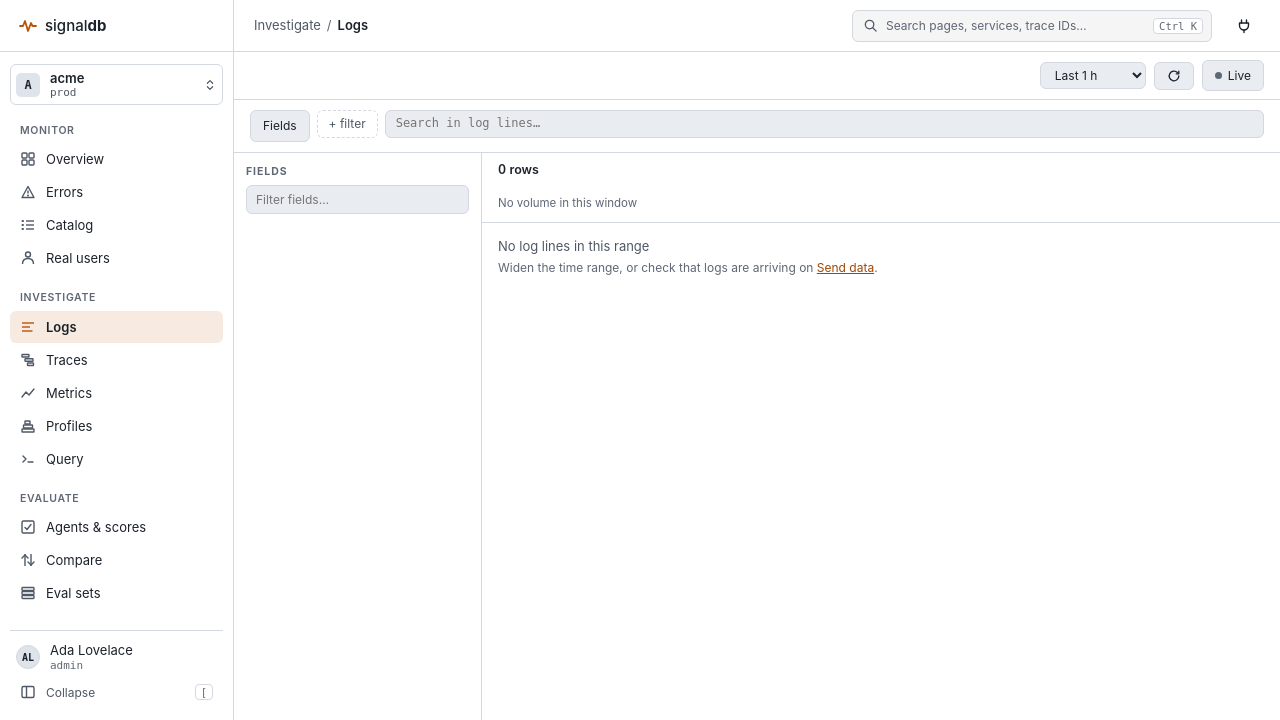
command palette › opens from the header search field and closes on Escape
The width and height of the screenshot is (1280, 720).
Click the button "Search pages, services, trace IDs… Ctrl K" at (1032, 26), box [852, 10, 1212, 42]
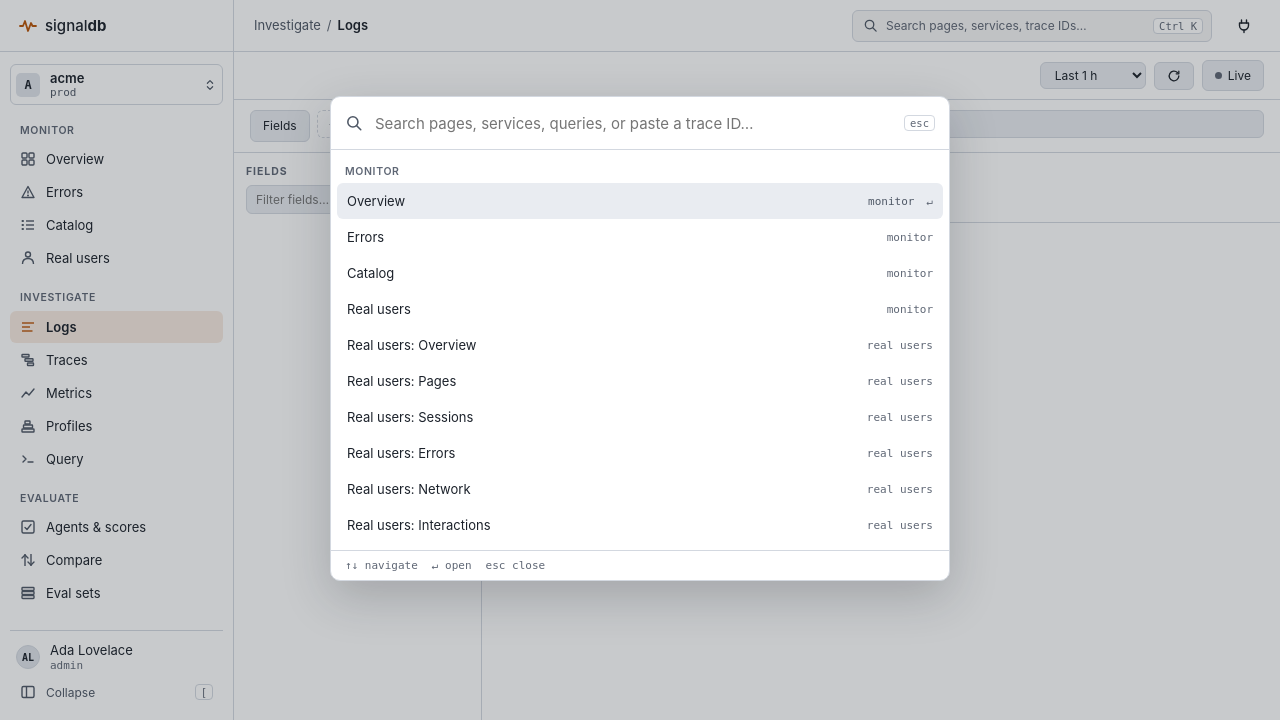
Now the dialog named "Command palette" is shown, box [330, 96, 950, 581]
Press Escape
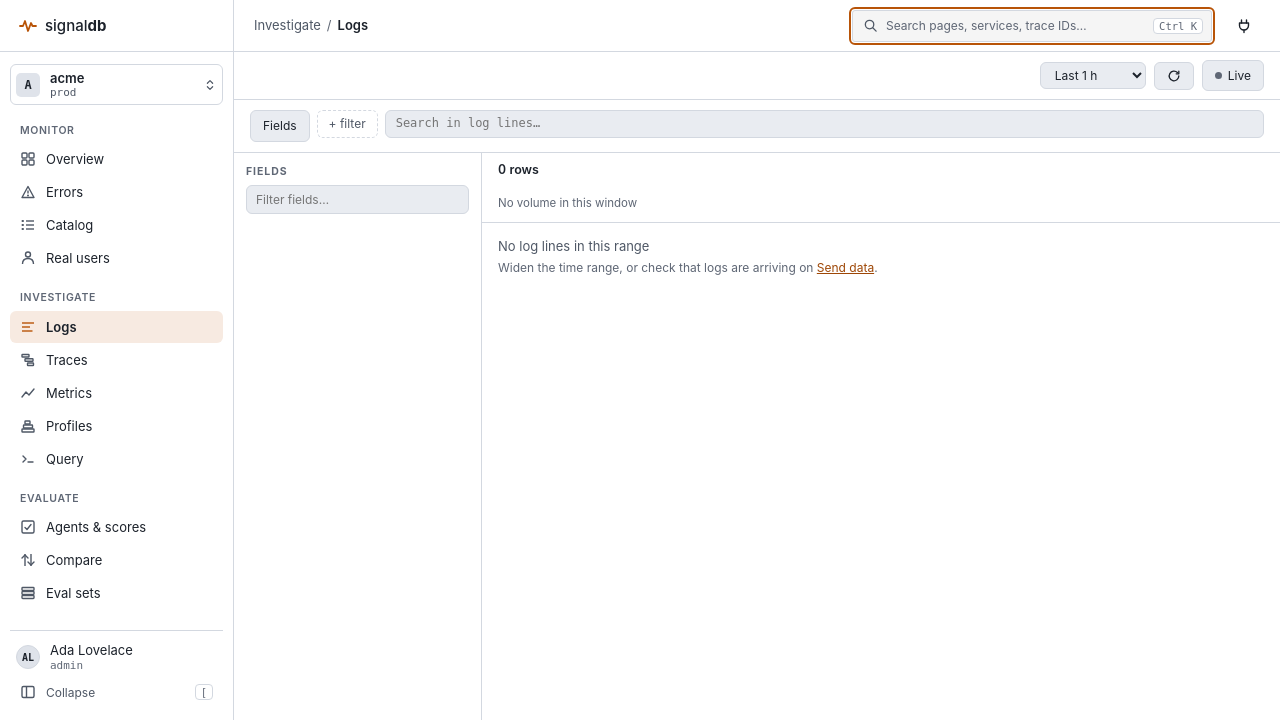
Now the dialog "Command palette" is gone
